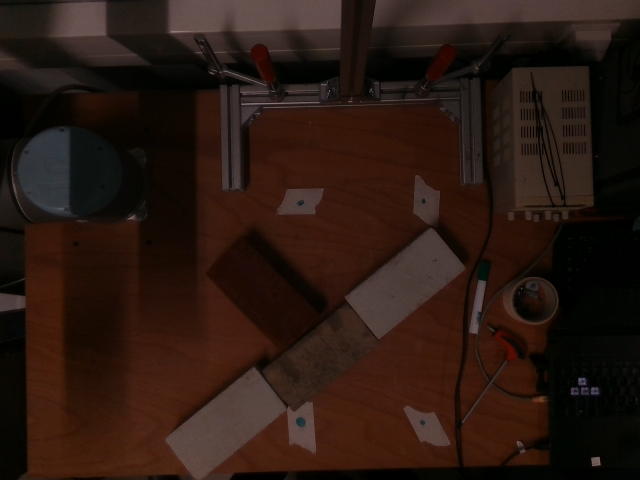brick: (206, 236, 320, 352), (349, 228, 464, 335), (262, 305, 377, 412), (170, 370, 285, 477)
